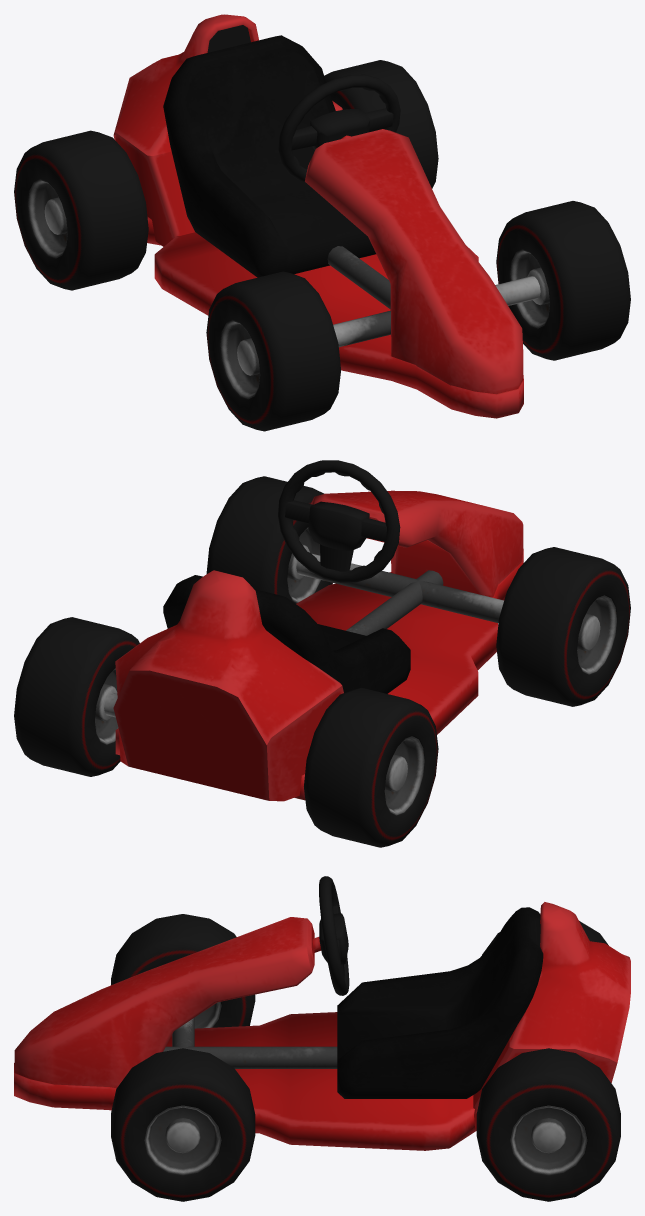
Rendered from BaseRaceKart4.gltf.
3 views of the same model, one above another, from view 1: azimuth 30°, elevation 25°; view 2: azimuth 150°, elevation 25°; view 3: azimuth 270°, elevation 25° (orthographic). The views are drawn at different scales.
Parts seen in each view (by area): view 1: rear, body, wheel-front-right.007, wheel-back-right.007, wheel-front-left.001, SteeringWheel, wheel-back-left.009, Underbody; view 2: rear, wheel-front-right.007, wheel-back-right.007, wheel-back-left.009, wheel-front-left.001, body, SteeringWheel, Underbody; view 3: rear, body, wheel-front-left.001, wheel-back-left.009, wheel-front-right.007, Underbody, SteeringWheel.
Part boxes in pixels (x1,y1,x2,y2): rear: (113, 14, 523, 418); body: (163, 35, 375, 277); wheel-front-right.007: (206, 271, 340, 431); wheel-back-right.007: (14, 130, 148, 290); wheel-front-left.001: (496, 201, 630, 360); SteeringWheel: (278, 74, 400, 181); wheel-back-left.009: (324, 60, 438, 188); Underbody: (327, 246, 540, 347); rear: (113, 490, 523, 801); wheel-front-right.007: (496, 547, 630, 706); wheel-back-right.007: (304, 688, 438, 847); wheel-back-left.009: (14, 617, 139, 776); wheel-front-left.001: (206, 476, 332, 603); body: (163, 575, 410, 693); SteeringWheel: (278, 460, 400, 582); Underbody: (104, 553, 503, 717); rear: (14, 902, 630, 1150); body: (337, 907, 543, 1098); wheel-front-left.001: (111, 1048, 255, 1201); wheel-back-left.009: (476, 1048, 620, 1201); wheel-front-right.007: (111, 914, 255, 1028); Underbody: (163, 1017, 337, 1068); SteeringWheel: (319, 876, 349, 995).
Size of the model in its own units: 1.51 by 1.02 by 2.37.
Materials: 1 (1 with a texture image).
